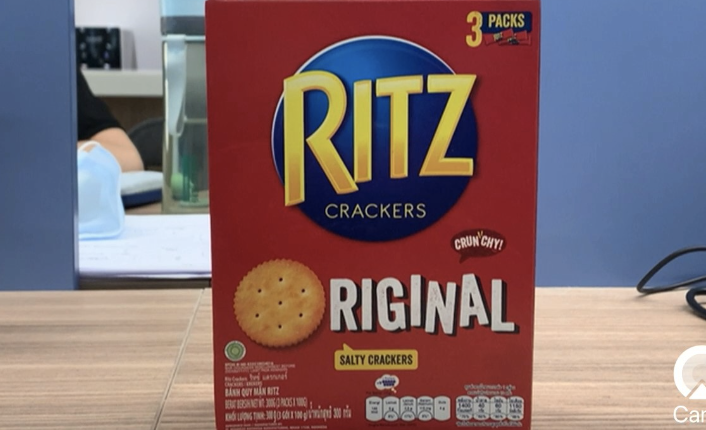crackers_300g-399g: (218, 5, 528, 423)
